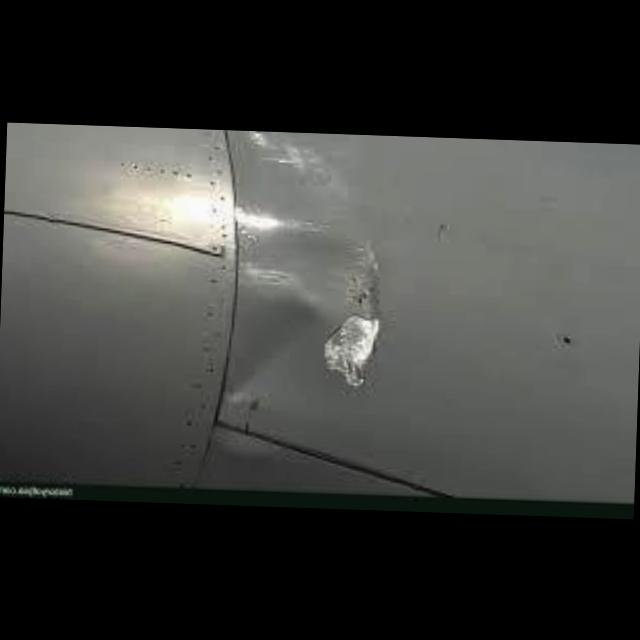dent: (228, 292, 329, 398), (245, 230, 359, 297)
